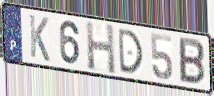5: (149, 32, 173, 82)
6: (58, 19, 82, 66)
B: (178, 35, 206, 88)
D: (117, 27, 145, 75)
H: (84, 19, 117, 76)
K: (27, 13, 51, 64)
